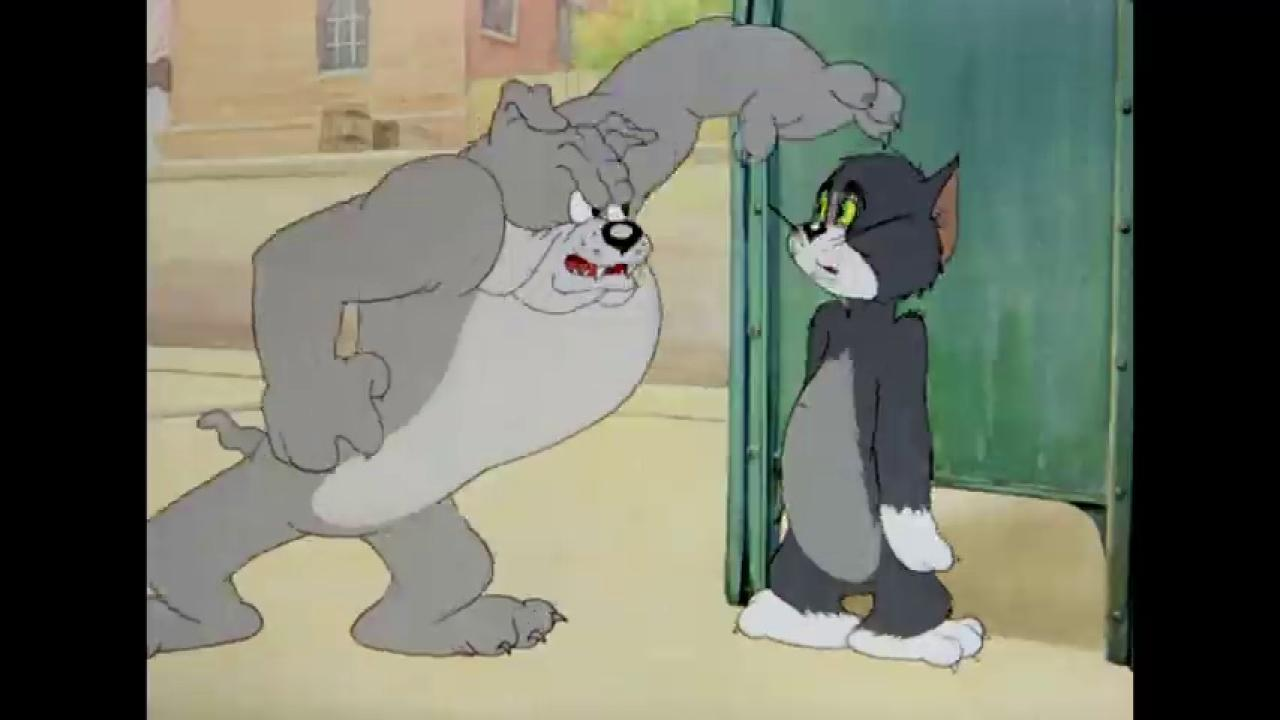Tom: (734, 142, 992, 673)
